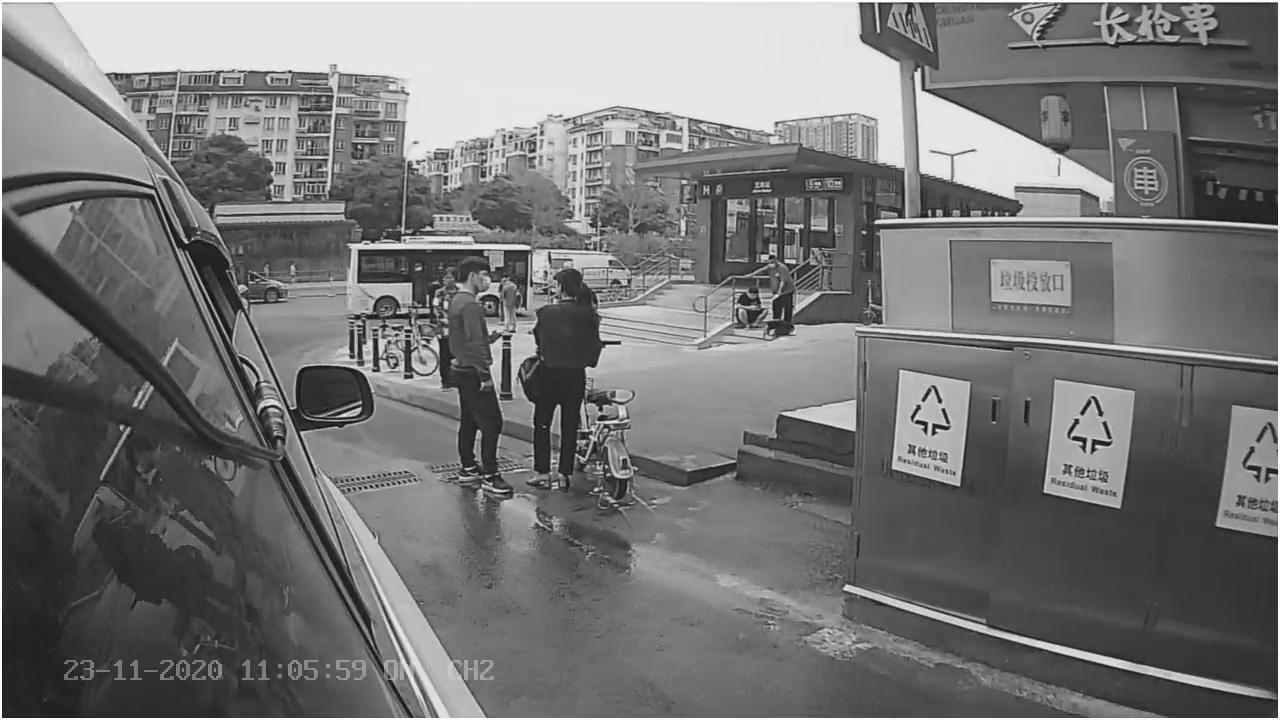person: (437, 254, 513, 507)
